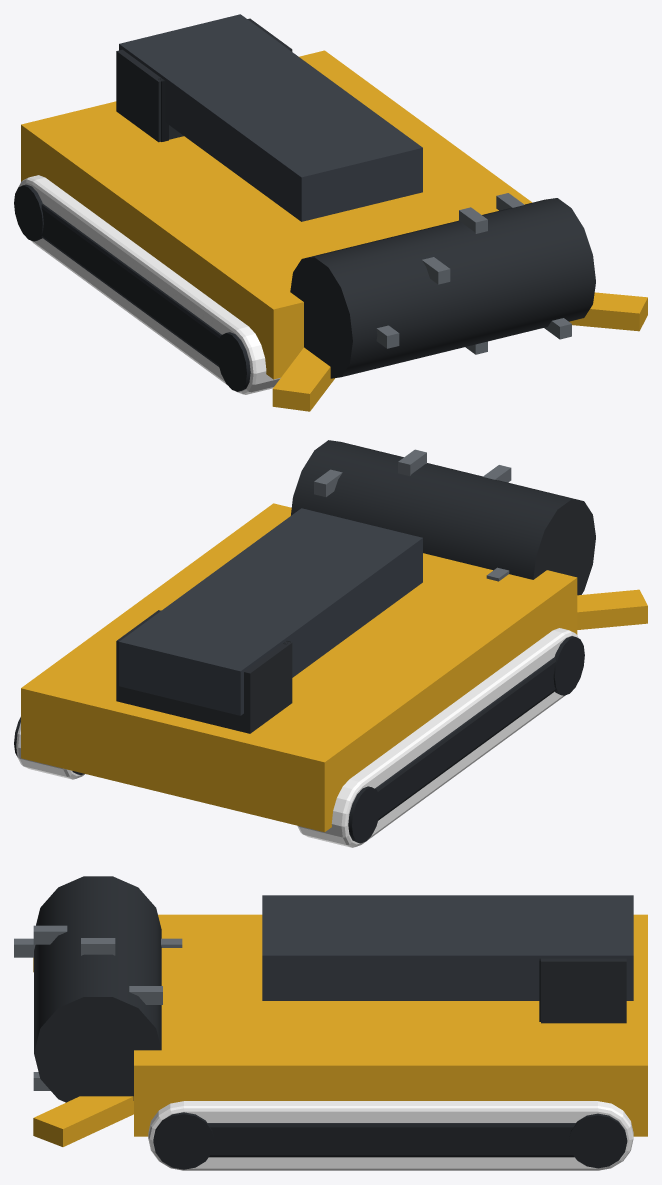
File: equipment--continuousMinerFront.glb
3 views of the same model, one above another, from view 1: azimuth 30°, elevation 25°; view 2: azimuth 150°, elevation 25°; view 3: azimuth 270°, elevation 25° (orthographic).
Visible parts, largest first — view 1: chassis, cuttingDrum, boomConveyor, trackR, cabGuard, gatheringArmL, gatheringArmR; view 2: chassis, boomConveyor, cuttingDrum, trackR, cabGuard, gatheringArmL, trackL; view 3: chassis, boomConveyor, trackL, cuttingDrum, cabGuard, gatheringArmR.
Boxes of the visible parts, left/top/right/bottom form: chassis: left=21, top=50, right=531, bottom=379; cuttingDrum: left=290, top=193, right=595, bottom=378; boomConveyor: left=119, top=14, right=422, bottom=221; trackR: left=14, top=175, right=280, bottom=394; cabGuard: left=116, top=18, right=292, bottom=142; gatheringArmL: left=272, top=347, right=335, bottom=411; gatheringArmR: left=569, top=292, right=647, bottom=331; chassis: left=21, top=503, right=577, bottom=832; boomConveyor: left=119, top=508, right=422, bottom=715; cuttingDrum: left=291, top=440, right=595, bottom=595; trackR: left=297, top=628, right=584, bottom=847; cabGuard: left=116, top=610, right=292, bottom=733; gatheringArmL: left=577, top=589, right=647, bottom=629; trackL: left=14, top=717, right=84, bottom=779; chassis: left=134, top=914, right=647, bottom=1136; boomConveyor: left=262, top=895, right=633, bottom=1000; trackL: left=148, top=1101, right=633, bottom=1170; cuttingDrum: left=14, top=876, right=182, bottom=1102; cabGuard: left=539, top=958, right=626, bottom=1023; gatheringArmR: left=33, top=1096, right=133, bottom=1146.
Size of the model in its own units: 3.09 by 1.27 by 4.44.
